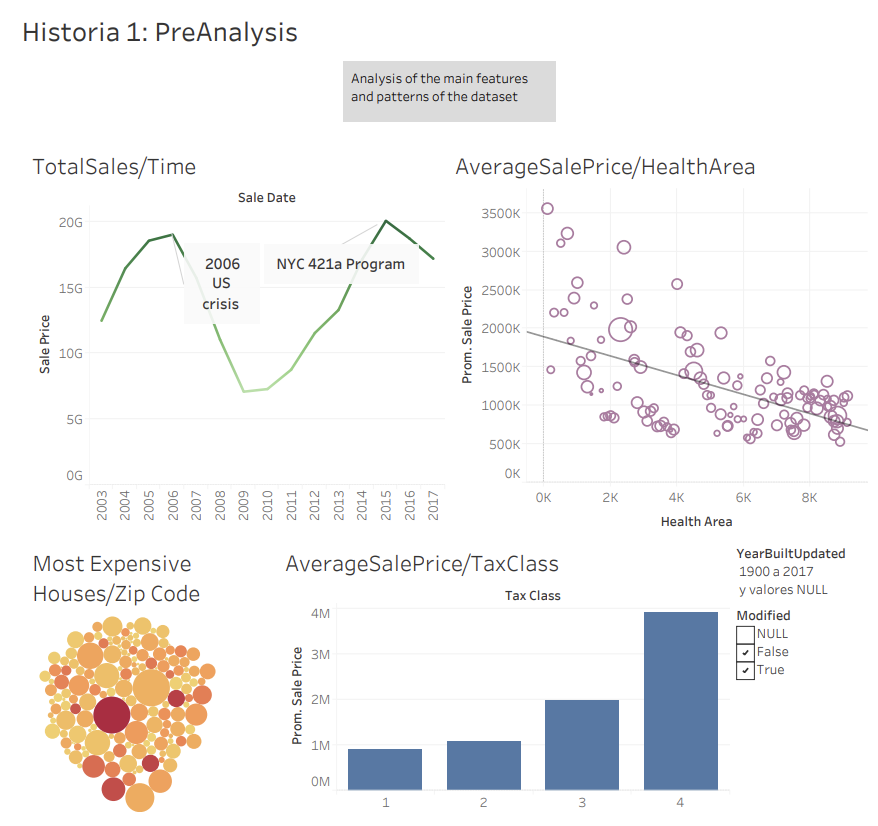

This screenshot's page, from the dashboard's own definition file:
{"tool":"tableau","page":{"name":"Dashboard 1: PreAnalysis","canvas":[1000,800],"ordinal":0},"visuals":[{"type":"worksheet","title":"TotalSales/Time","mark":"Automatic","rows":["sale_price"],"cols":["sale_date"],"box":[8,8,492,463]},{"type":"worksheet","title":"AverageSalePrice/HealthArea","mark":"Shape","rows":["sale_price"],"cols":["HealthArea"],"box":[500,8,492,463]},{"type":"worksheet","title":"MostExpensiveHouses/ZipCode","mark":"Circle","box":[8,471,294,321]},{"type":"worksheet","title":"AverageSalePrice/TaxClass","mark":"Automatic","rows":["sale_price"],"cols":["tax_class"],"box":[302,471,530,321]},{"type":"filter","title":"MostExpensiveHouses/ZipCode","param":"[federated.16p3oot0qzsxwa1fckpwx1d4f2nt].[none:Calculation_1124492570445541379:q","box":[832,471,160,73]},{"type":"filter","title":"TotalSales/Time","param":"[federated.16p3oot0qzsxwa1fckpwx1d4f2nt].[none:Calculation_1124492570461945866:n","box":[832,544,160,128]}]}

Visuals, with their boxes on the page's 1000x800 design canvas (x1, y1, x2, y2). These are canvas units, not pixel positions in the 878x826 screenshot, which may show the page scaled, cropped or inside an application window:
"TotalSales/Time" worksheet: x1=8 y1=8 x2=500 y2=471
"AverageSalePrice/HealthArea" worksheet (Shape marks): x1=500 y1=8 x2=992 y2=471
"MostExpensiveHouses/ZipCode" worksheet (Circle marks): x1=8 y1=471 x2=302 y2=792
"AverageSalePrice/TaxClass" worksheet: x1=302 y1=471 x2=832 y2=792
"MostExpensiveHouses/ZipCode" filter: x1=832 y1=471 x2=992 y2=544
"TotalSales/Time" filter: x1=832 y1=544 x2=992 y2=672
